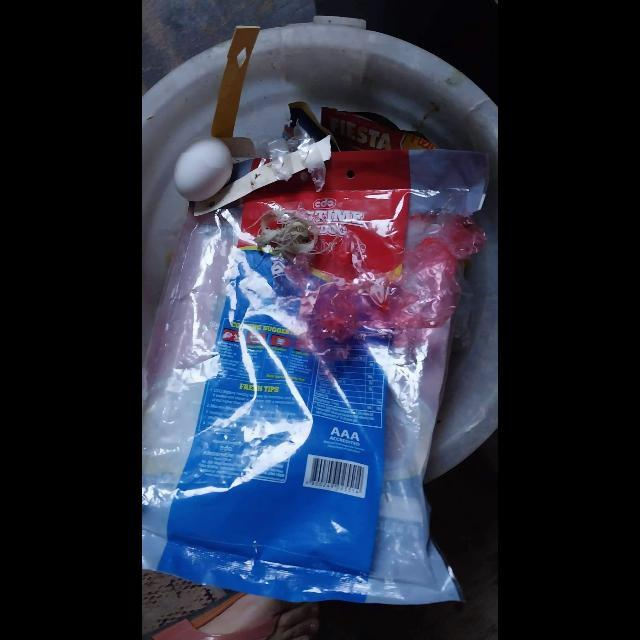food_wrapper: (142, 149, 489, 607), (320, 107, 435, 152)
